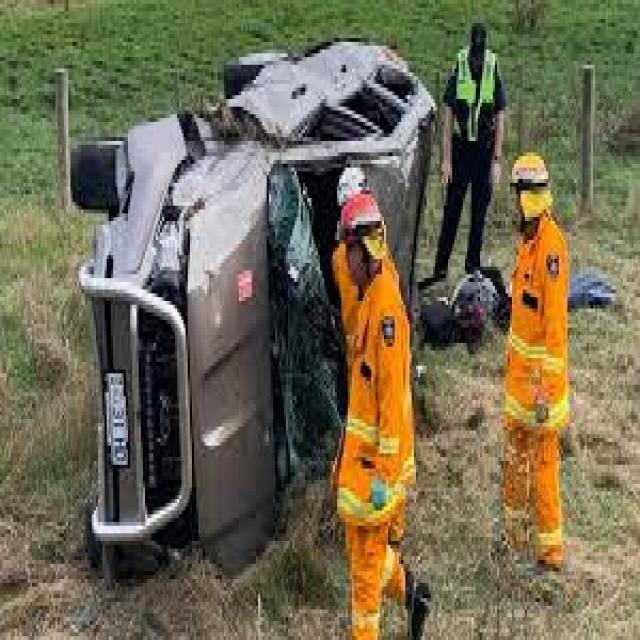accident: (39, 9, 483, 584)
